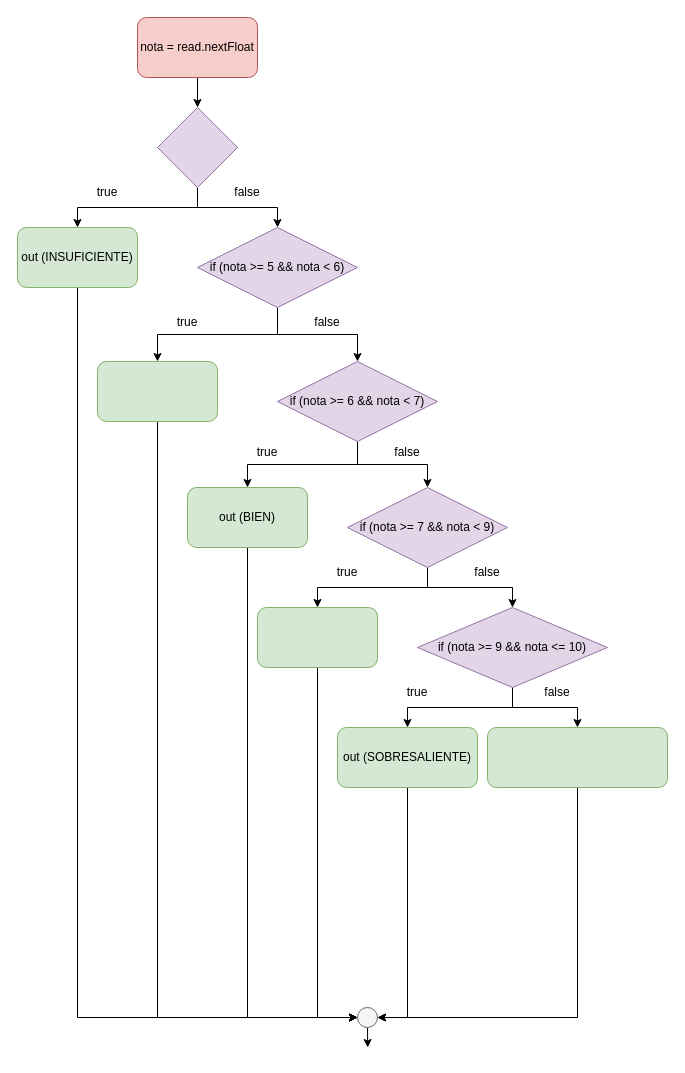
The diagram is 685 pixels wide and 1073 high, and some of its shapes have lost their labels. The box of each missing label's shape, as (x1, y1, x2, y2) in pixels:
if (nota < 5): (156, 106, 238, 188)
out (NOTABLE): (256, 606, 378, 668)
out (SUFICIENTE): (96, 360, 218, 422)
out (Tu nota no esta comprendida entre el 0 y el 10): (486, 726, 668, 788)
